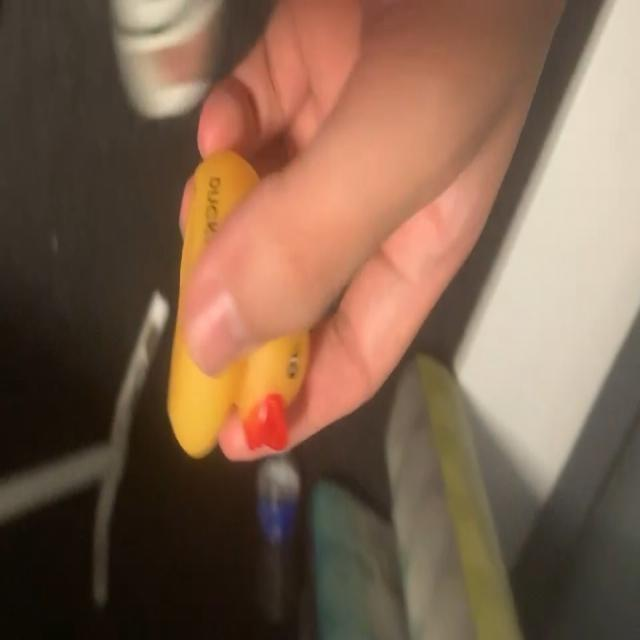rubber-duck: (167, 150, 307, 456)
